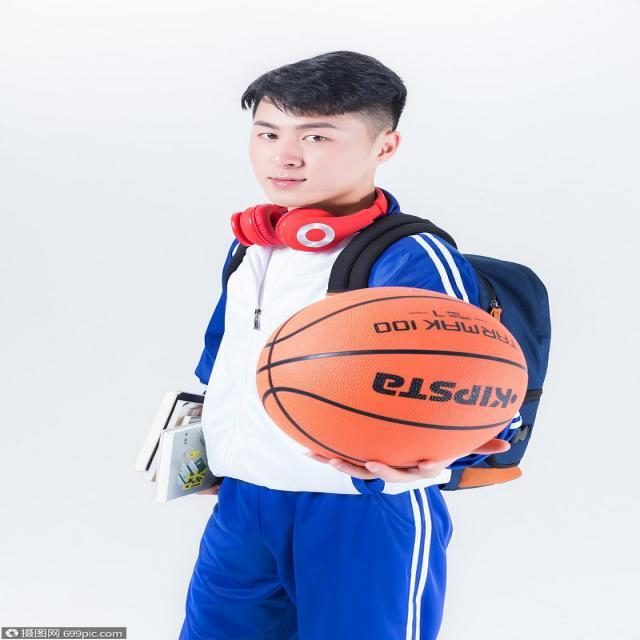rim: (254, 284, 528, 472)
